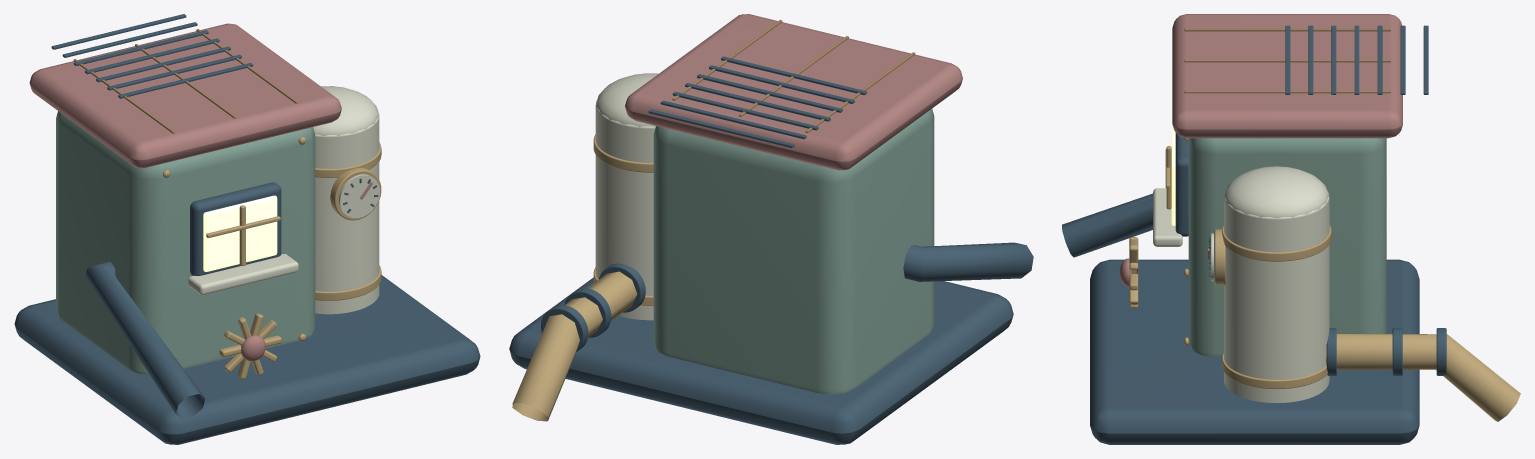
Rendered from pump.glb.
The picture shows the model from 3 angles, left to right: view 1: azimuth 30°, elevation 25°; view 2: azimuth 150°, elevation 25°; view 3: azimuth 270°, elevation 25°; orthographic projection. The views are drawn at different scales.
Visible parts, largest first — view 1: pump · Midnight enamel, Rounded pump shed, pump · Dusty rose roof, pump · Warm porcelain, Gauge window glass, pump · Dull brass, Rotor · Dull brass, pump · Old honey wood, Valve center; view 2: Rounded pump shed, pump · Midnight enamel, pump · Dusty rose roof, pump · Warm porcelain, pump · Dull brass, pump · Old honey wood; view 3: pump · Midnight enamel, pump · Dusty rose roof, pump · Warm porcelain, Rounded pump shed, pump · Dull brass, pump · Old honey wood, Rotor · Dull brass, Gauge window glass.
Boxes of the visible parts, <box> form: pump · Midnight enamel: <box>14,14,480,444</box>; Rounded pump shed: <box>56,111,315,374</box>; pump · Dusty rose roof: <box>29,23,372,199</box>; pump · Warm porcelain: <box>188,86,379,314</box>; Gauge window glass: <box>203,195,277,271</box>; pump · Dull brass: <box>163,137,381,341</box>; Rotor · Dull brass: <box>219,313,281,379</box>; pump · Old honey wood: <box>73,29,297,133</box>; Valve center: <box>241,335,265,361</box>; Rounded pump shed: <box>653,109,934,394</box>; pump · Midnight enamel: <box>509,56,1033,444</box>; pump · Dusty rose roof: <box>625,14,962,170</box>; pump · Warm porcelain: <box>595,73,658,320</box>; pump · Dull brass: <box>512,134,653,421</box>; pump · Old honey wood: <box>672,19,915,133</box>; pump · Midnight enamel: <box>1062,25,1446,444</box>; pump · Dusty rose roof: <box>1172,14,1402,259</box>; pump · Warm porcelain: <box>1153,166,1329,403</box>; Rounded pump shed: <box>1188,138,1386,356</box>; pump · Dull brass: <box>1165,137,1520,421</box>; pump · Old honey wood: <box>1184,28,1390,93</box>; Rotor · Dull brass: <box>1129,237,1138,308</box>; Gauge window glass: <box>1171,129,1175,225</box>.
Size of the model in its own units: 3.5 by 2.92 by 4.18.
